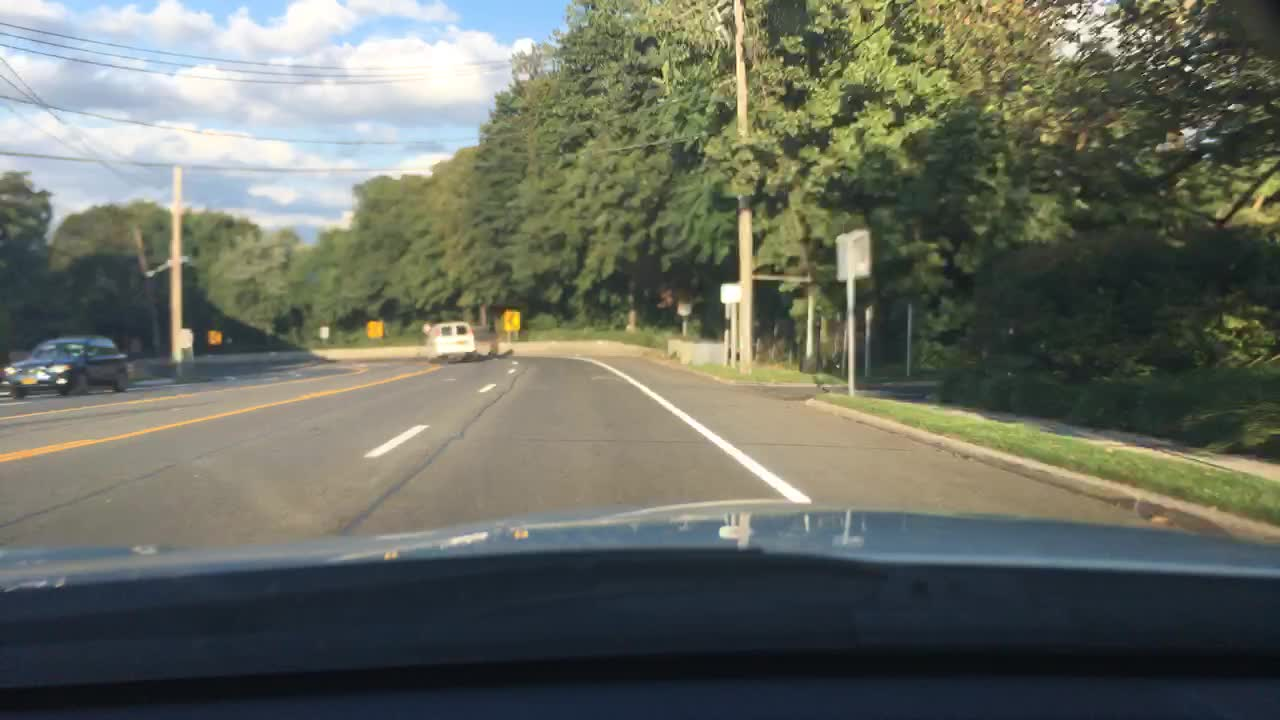car: (2, 333, 135, 402), (420, 319, 475, 362)
traffic sign: (833, 228, 869, 280), (720, 282, 741, 304), (503, 310, 519, 333), (364, 317, 381, 338), (207, 329, 221, 345), (181, 330, 192, 347), (130, 338, 139, 352), (318, 327, 329, 338)
